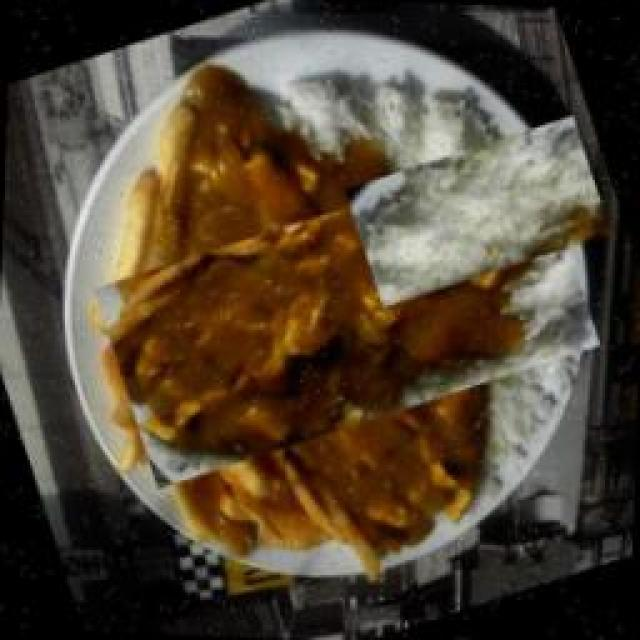curry: (125, 95, 573, 543)
rice: (358, 90, 601, 333)
